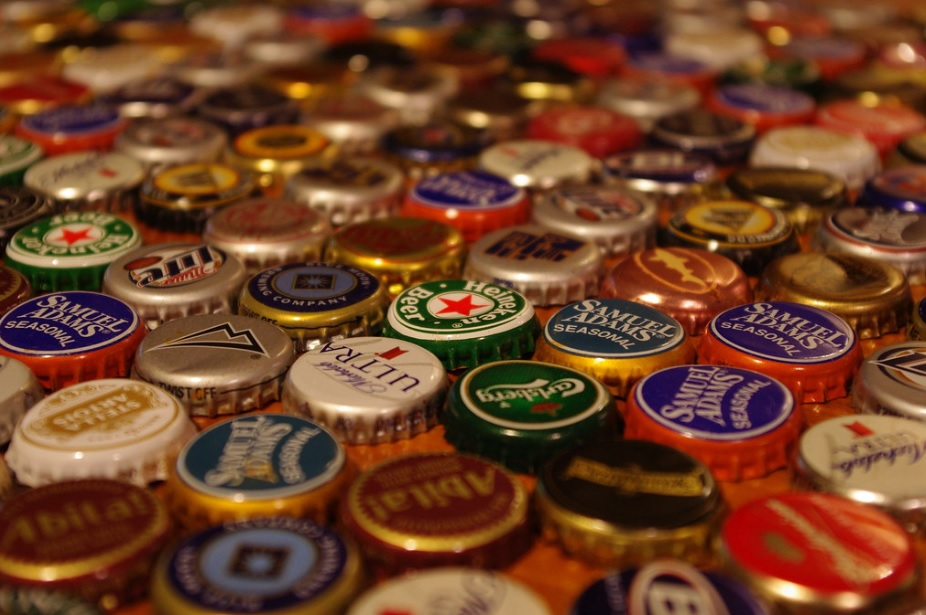heineken: (384, 278, 538, 344), (4, 209, 141, 270)
